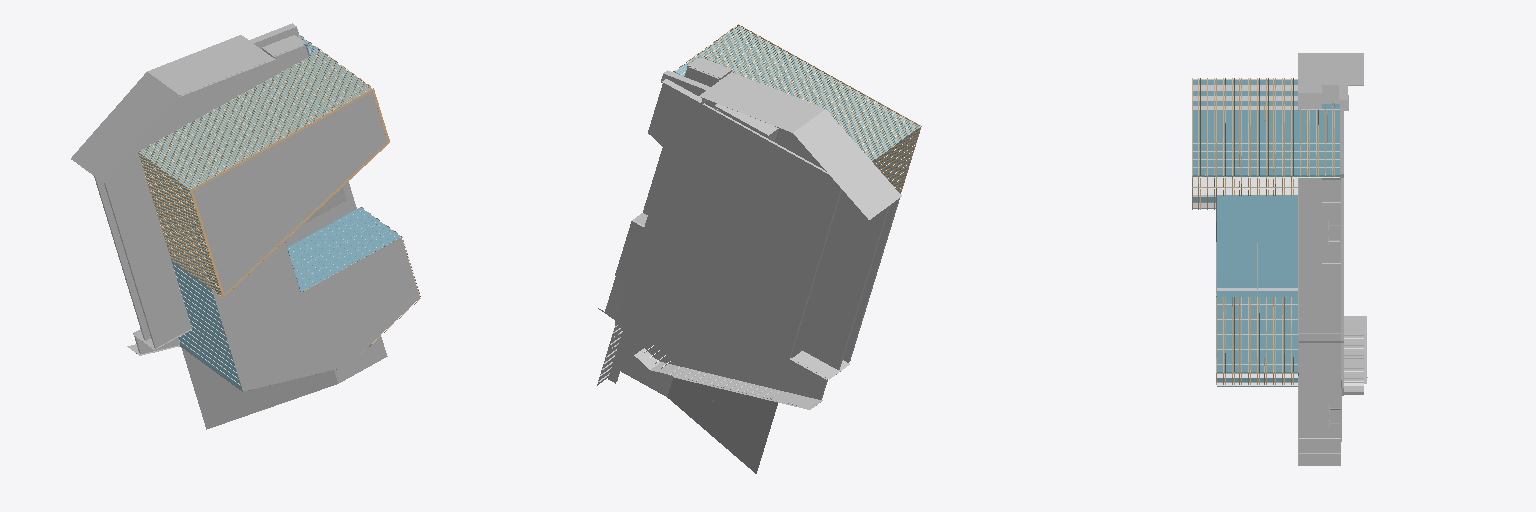
The model's file is Site5-2.obj.
The picture shows the model from 3 angles: view 1: azimuth 30°, elevation 25°; view 2: azimuth 150°, elevation 25°; view 3: azimuth 270°, elevation 25°; orthographic projection.
Size of the model in its own units: 219 by 279 by 116.